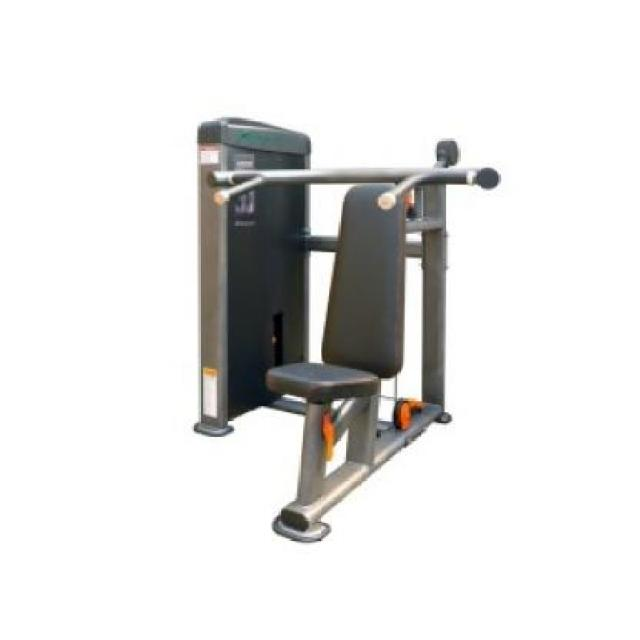Chest Press machine: (143, 106, 515, 560)
